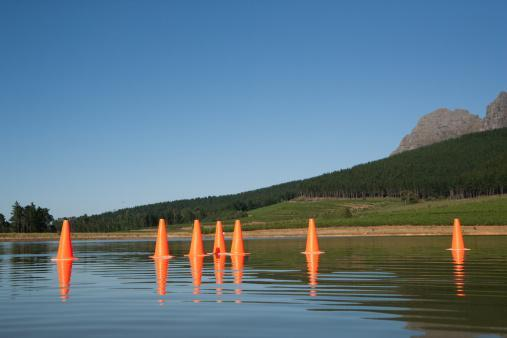Cone: (51, 220, 77, 260), (149, 218, 172, 257), (302, 218, 325, 254), (446, 217, 469, 251), (187, 219, 208, 256), (230, 219, 247, 256), (211, 220, 226, 254)
